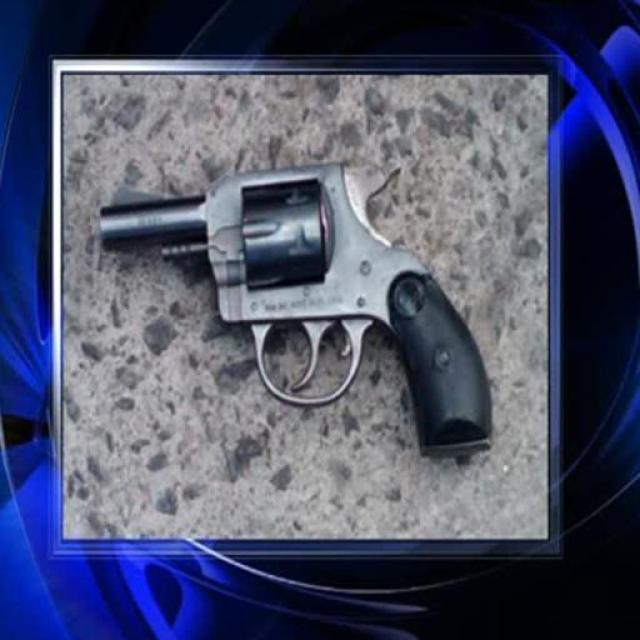pistol: (95, 158, 496, 453)
